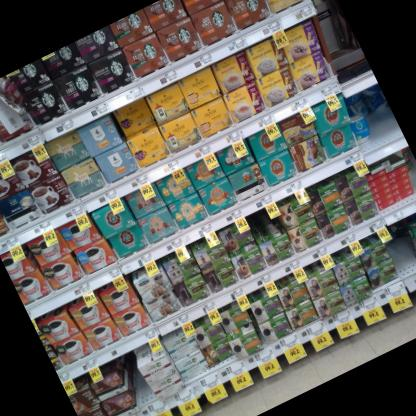empty_space: (294, 0, 358, 70), (113, 347, 162, 414), (378, 219, 416, 280), (365, 104, 402, 143), (397, 144, 416, 191)
